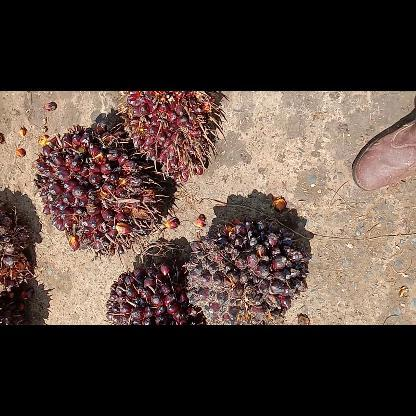Kurang masak: (32, 124, 168, 262), (184, 216, 310, 324), (117, 91, 221, 181), (105, 258, 204, 324)
